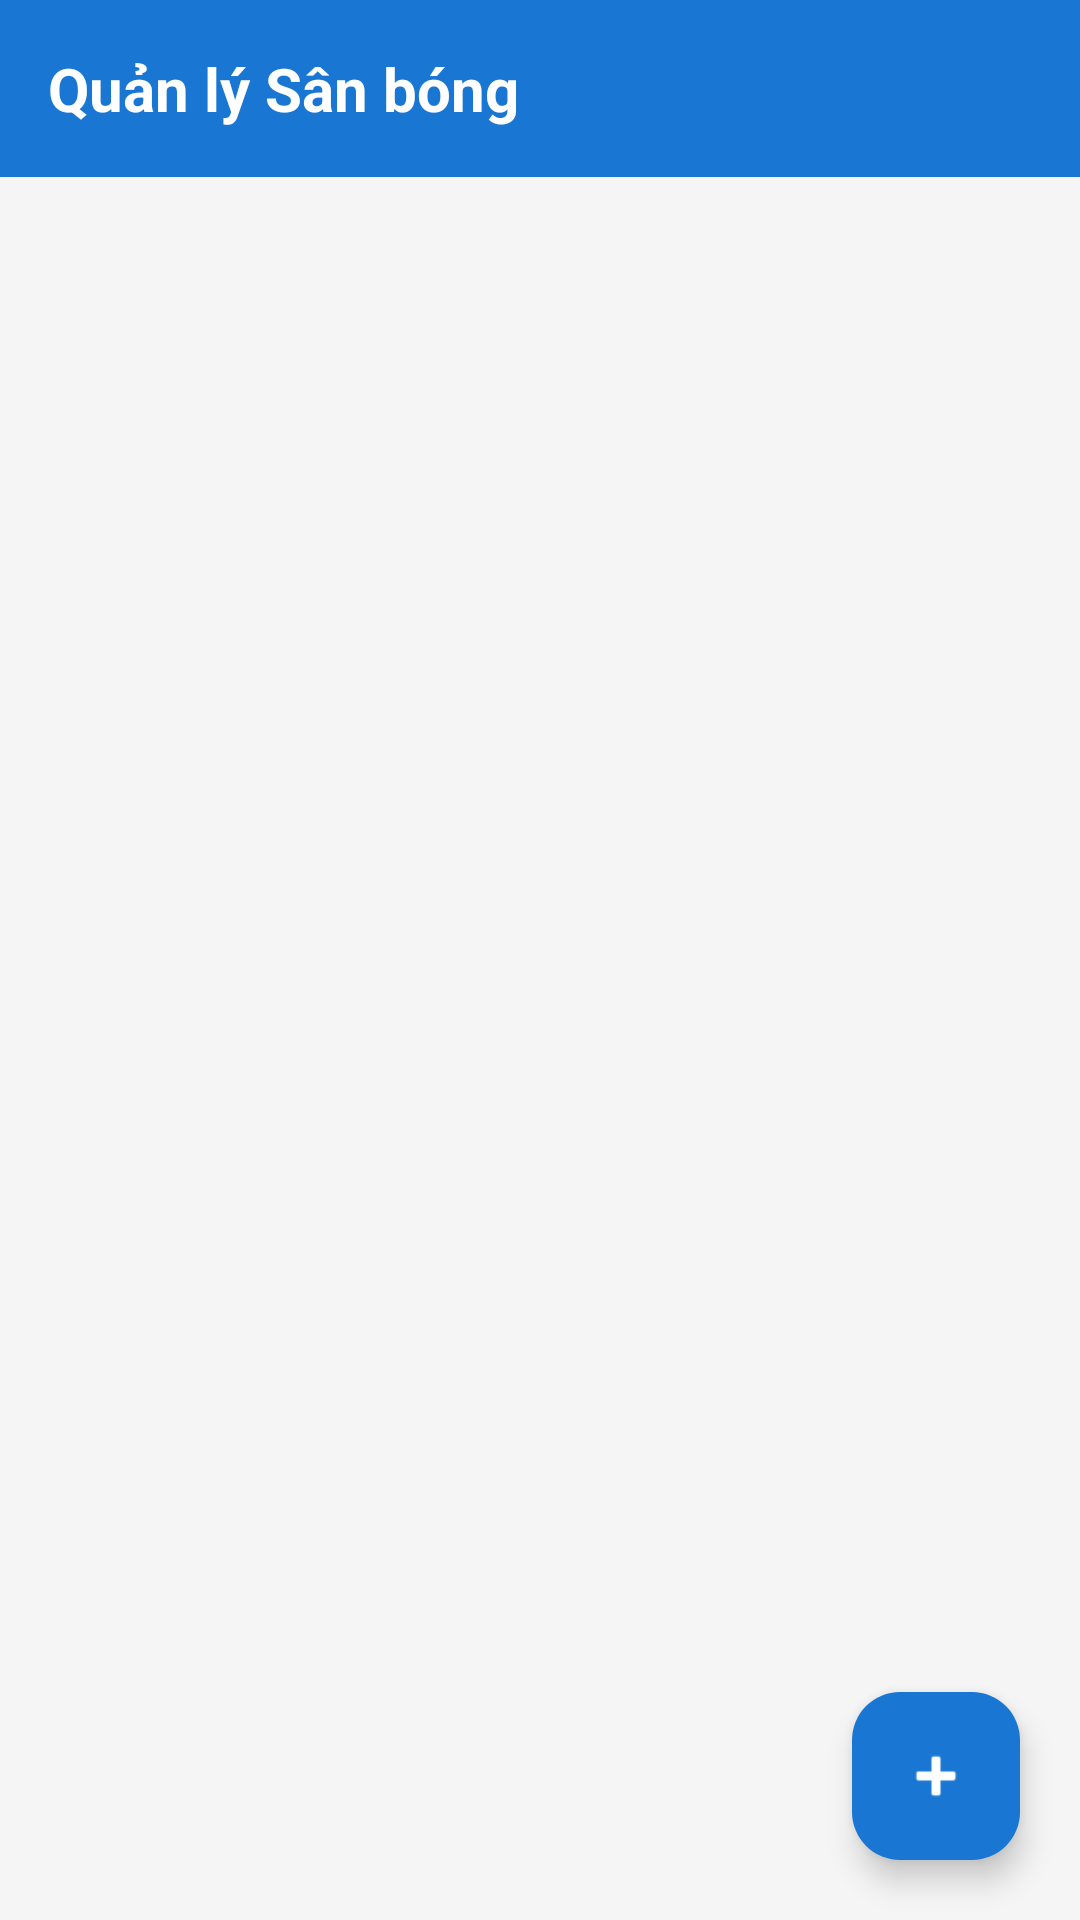

Icon click points for this 1080w x 1920h phone screenshot, format (x,y):
Thêm sân mới: (936,1776)
